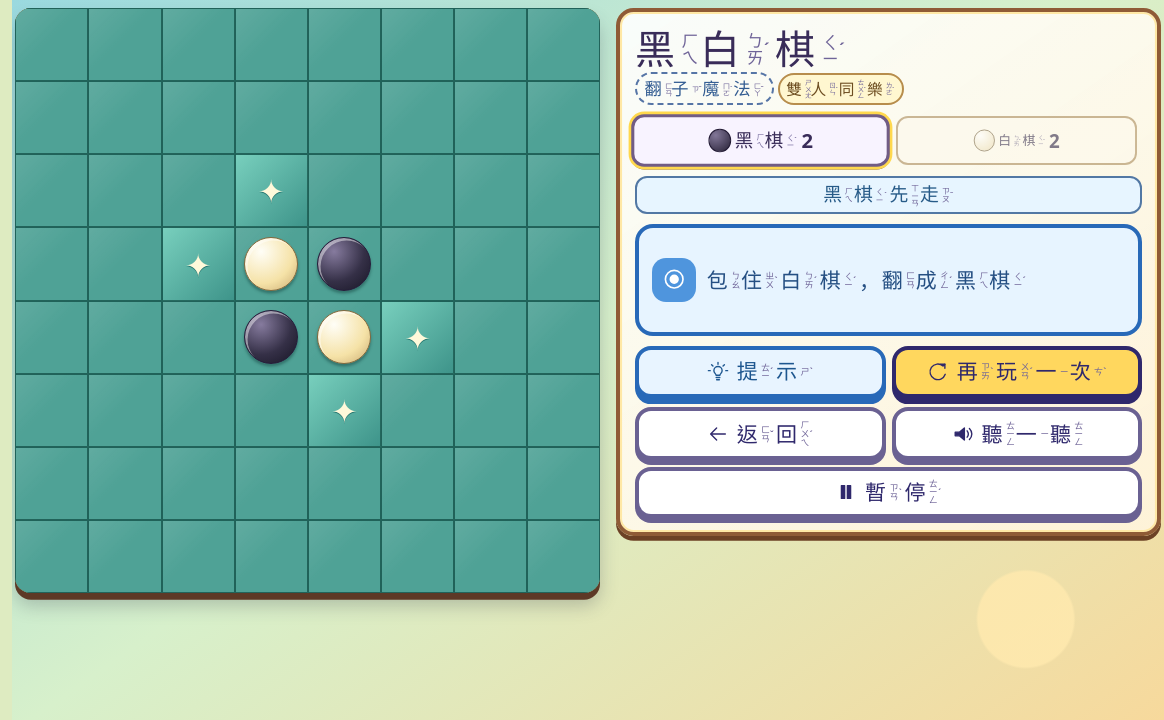
Test: 黑白棋正式美術提案畫面 › 雙人同樂會依目前執棋方切換翻子提示的文字與語音文案
Expected: the element named "包住白棋，翻成黑棋" is shown, [707,266,1026,295]
Click the cell named "可以落子的格子".
click(271, 191)  # box [235,154,308,228]
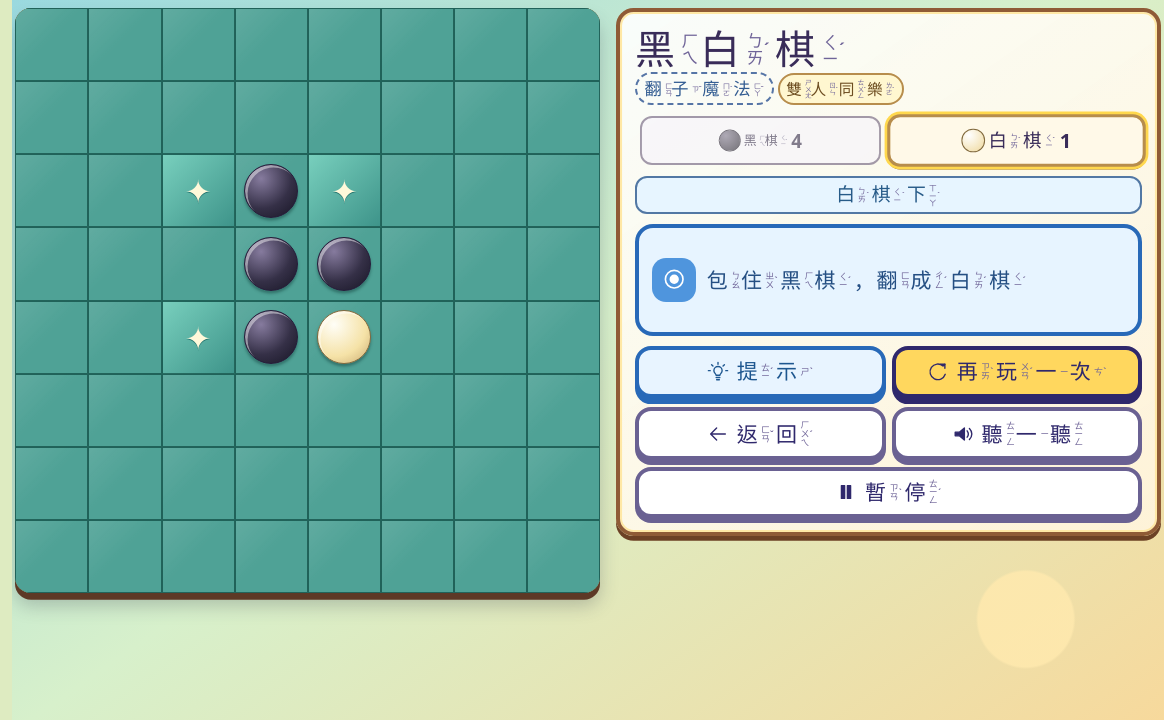
Expected: the element named "包住黑棋，翻成白棋" is shown, [707,266,1026,295]
